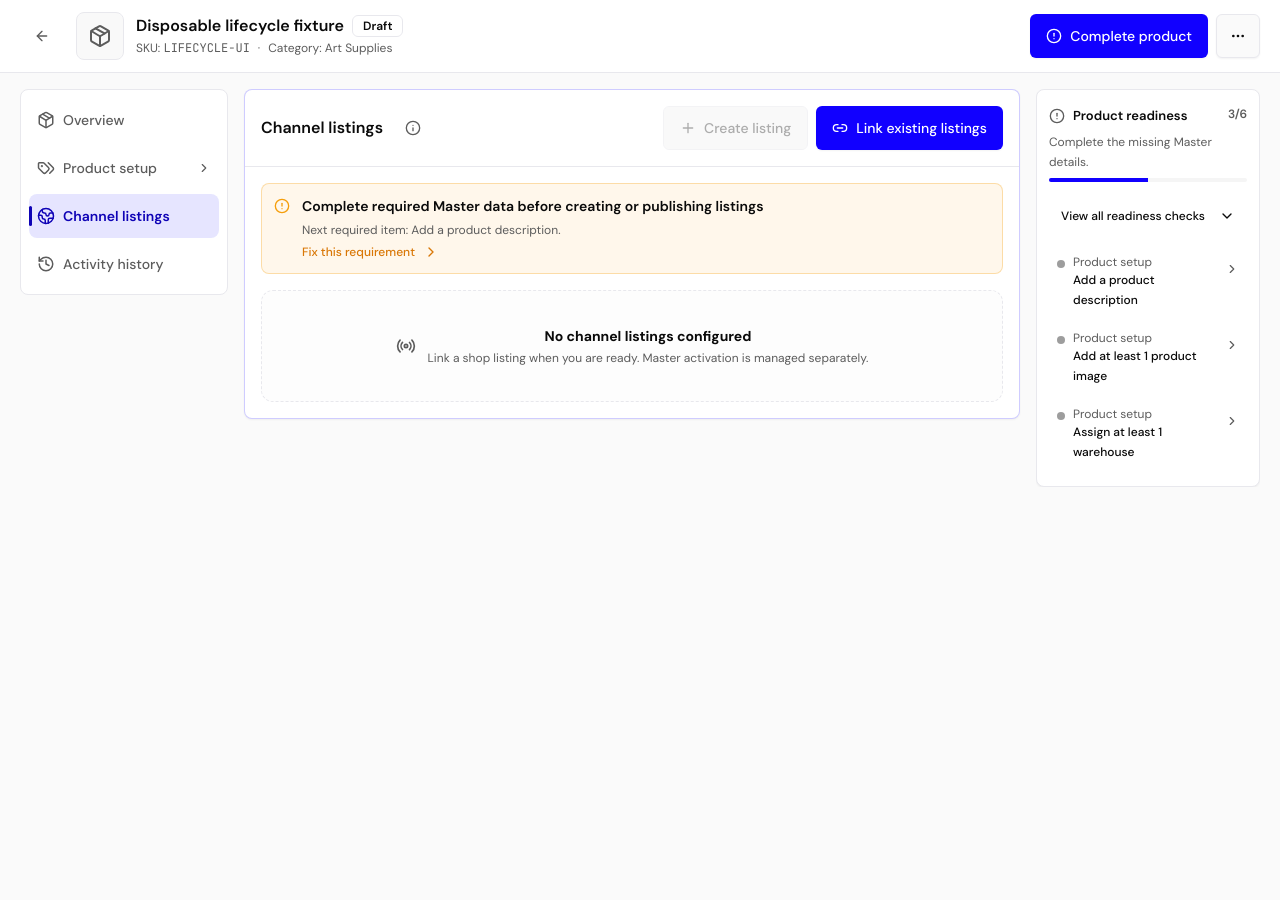
Product lifecycle UI › rechecks dependencies when the user confirms deletion
Press ArrowDown in the button named "Product actions", box [1216,14,1260,58]
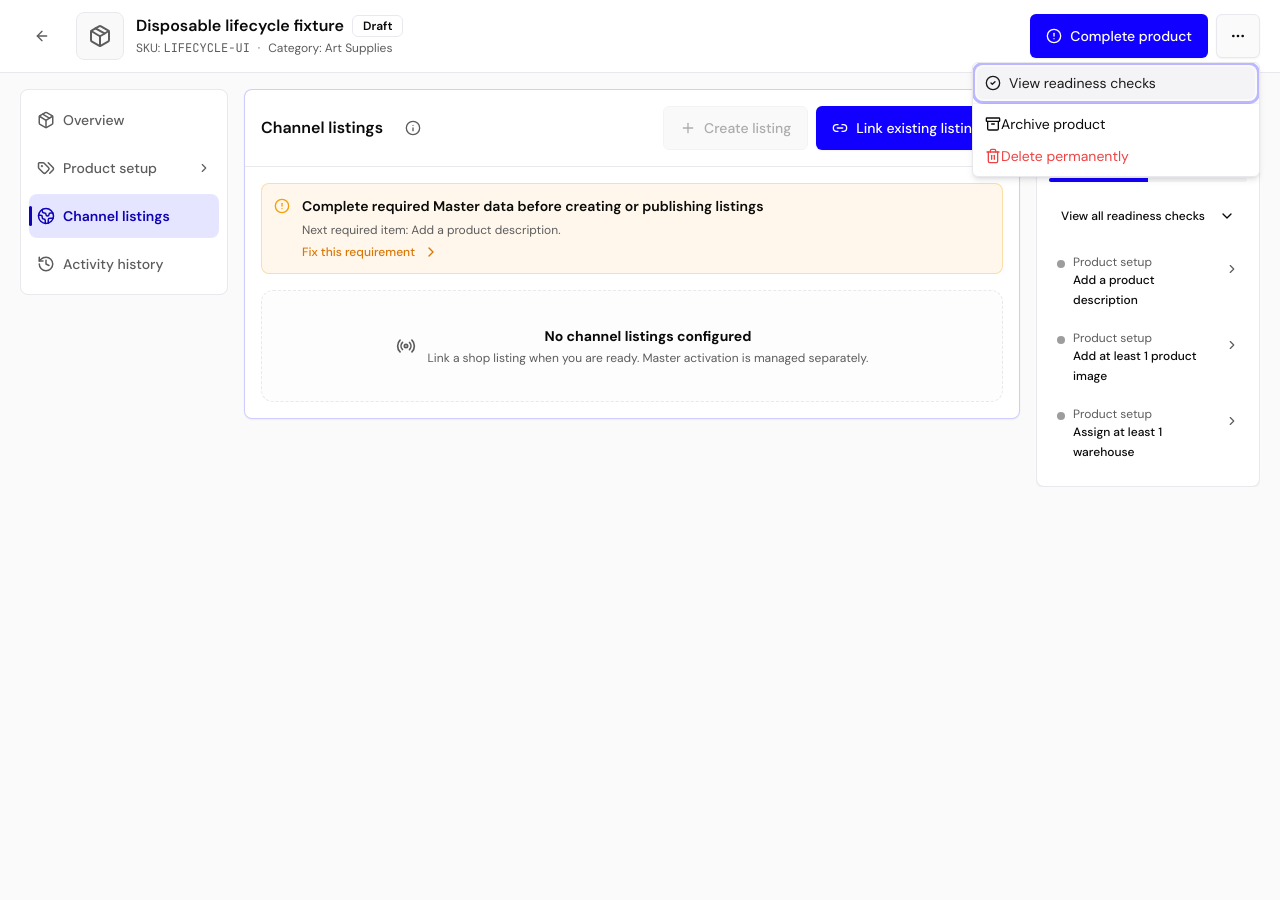
Click the menu item "Delete permanently" at (1057, 156), box [985,147,1129,165]
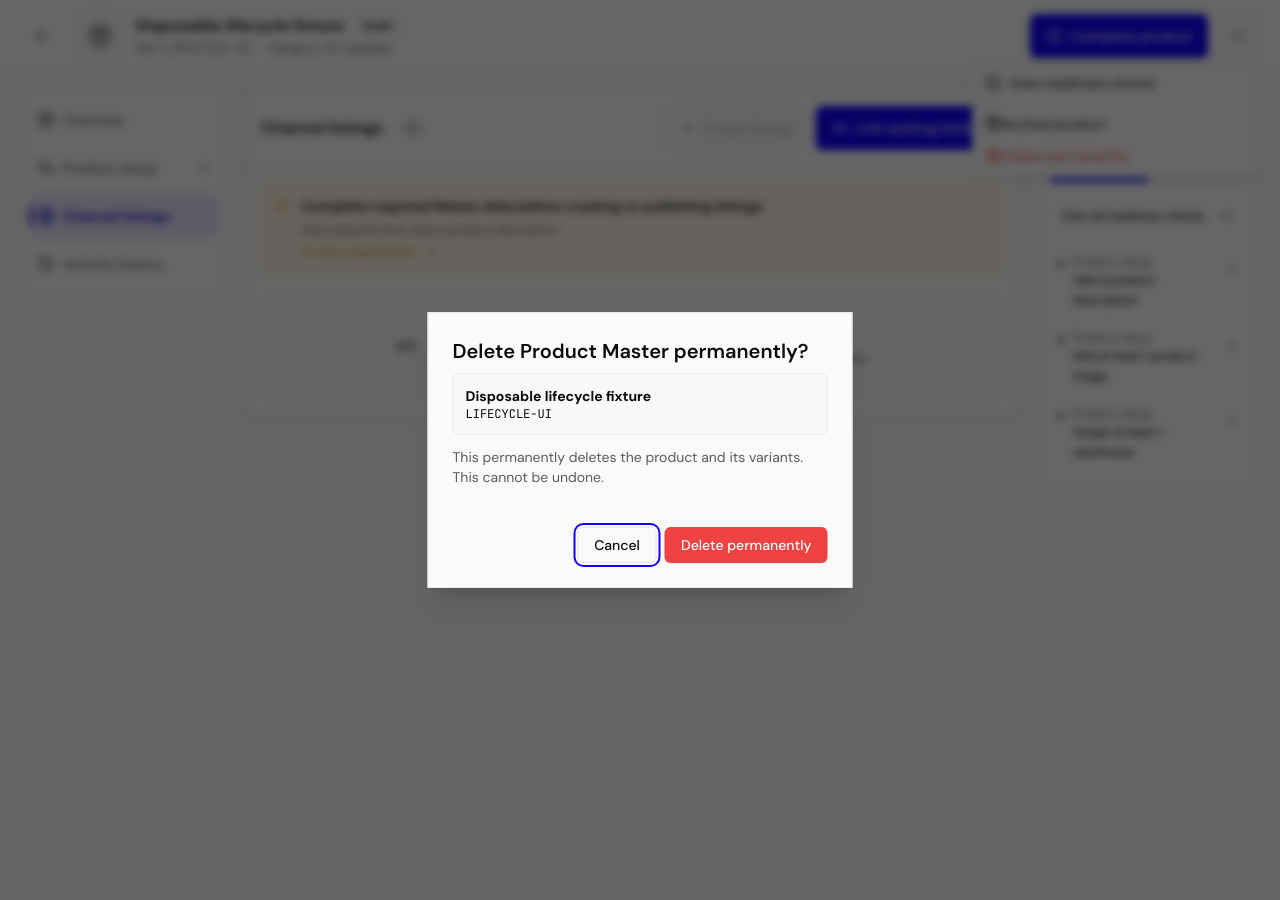
Click the button "Delete permanently" at (746, 545), box [665,527,828,563]
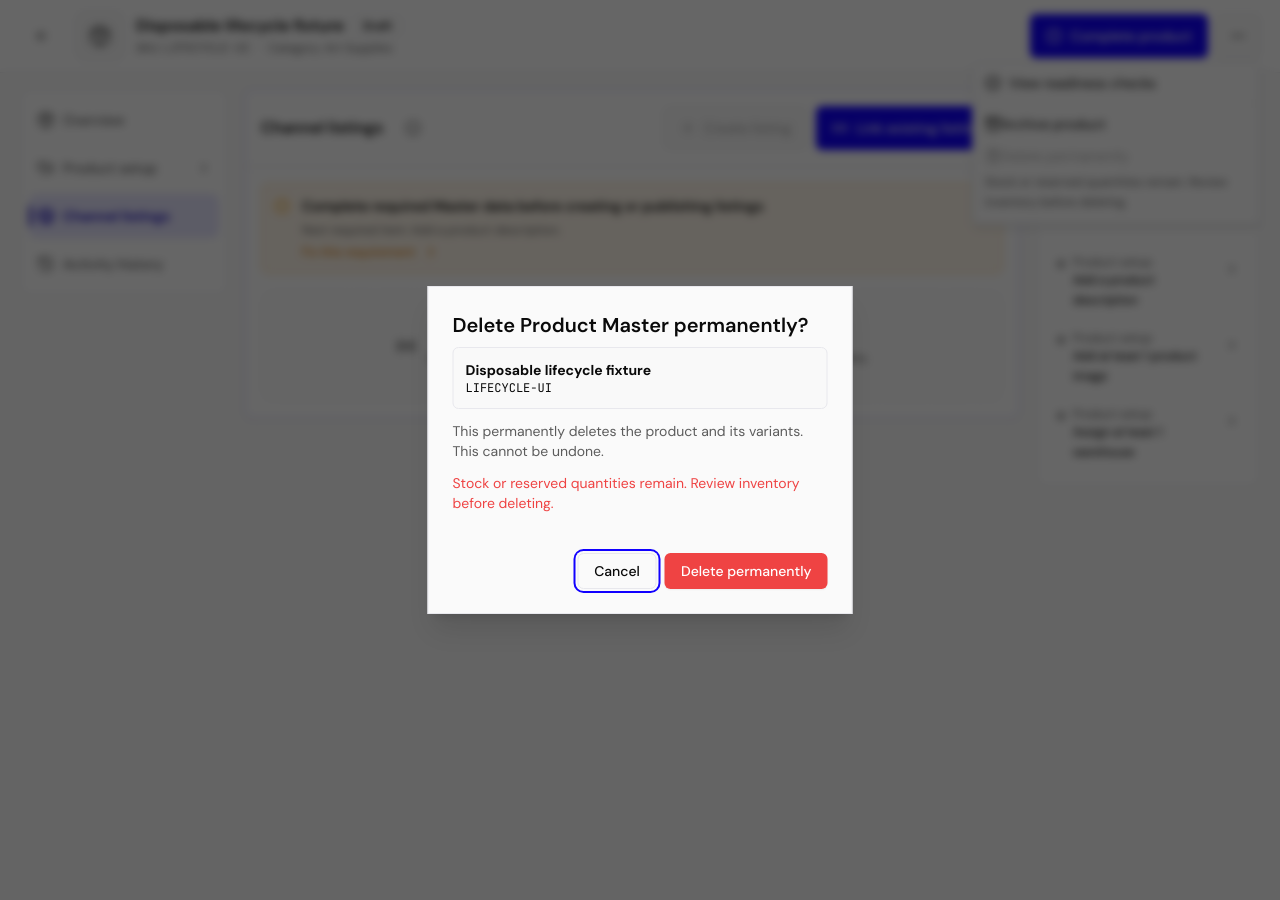
expect the message shows "Stock or reserved": met, box [452,474,800,512]
